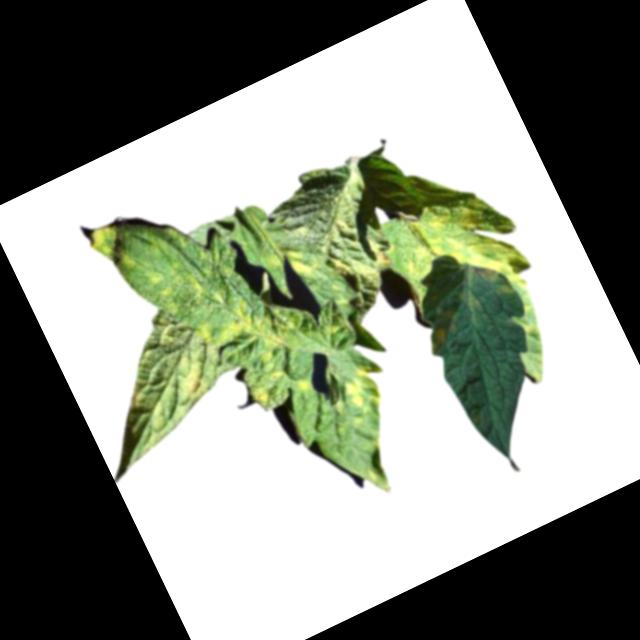Leaf_Mold: (368, 176, 540, 338), (188, 285, 290, 379), (334, 354, 394, 421), (245, 358, 311, 415), (82, 218, 129, 269), (281, 239, 323, 282), (175, 367, 214, 405)
